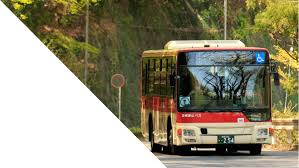bus: (139, 38, 272, 156)
